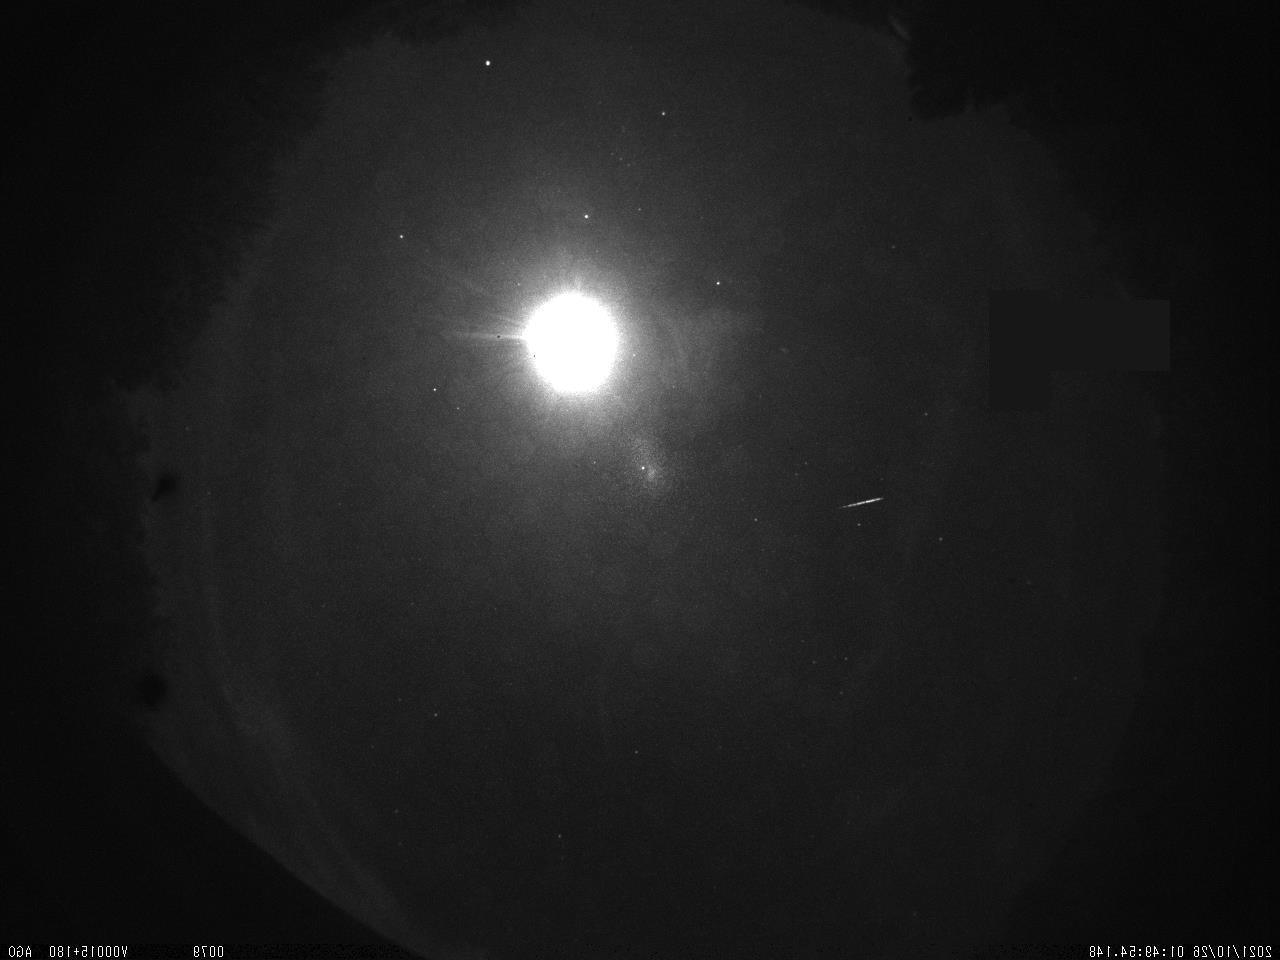meteor: (837, 492, 886, 513)
